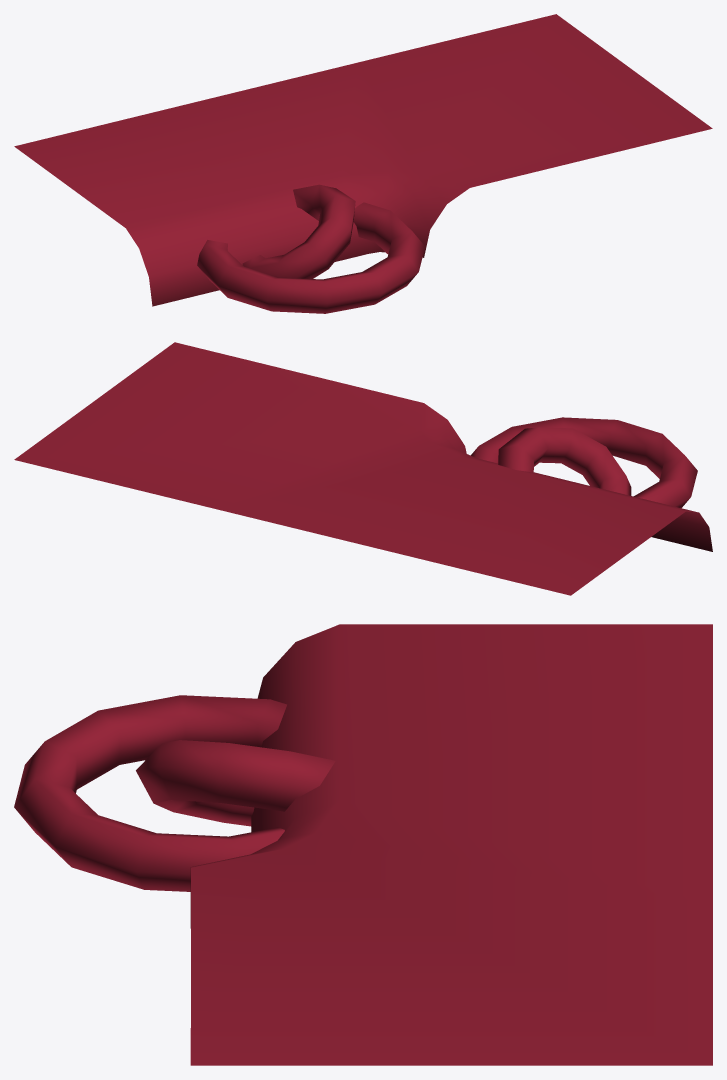
File: Surface_PlatformCorner.fbx
3 views of the same model, one above another, from view 1: azimuth 30°, elevation 25°; view 2: azimuth 150°, elevation 25°; view 3: azimuth 270°, elevation 25° (orthographic). The views are drawn at different scales.
Parts seen in each view (by area): view 1: Surface_PlatformCorner; view 2: Surface_PlatformCorner; view 3: Surface_PlatformCorner.
Boxes of the visible parts, <box> form: Surface_PlatformCorner: <box>14,14,712,313</box>; Surface_PlatformCorner: <box>14,342,712,595</box>; Surface_PlatformCorner: <box>14,624,712,1065</box>.
Bounding box in the file's own units: 4000 × 599 × 2677.
